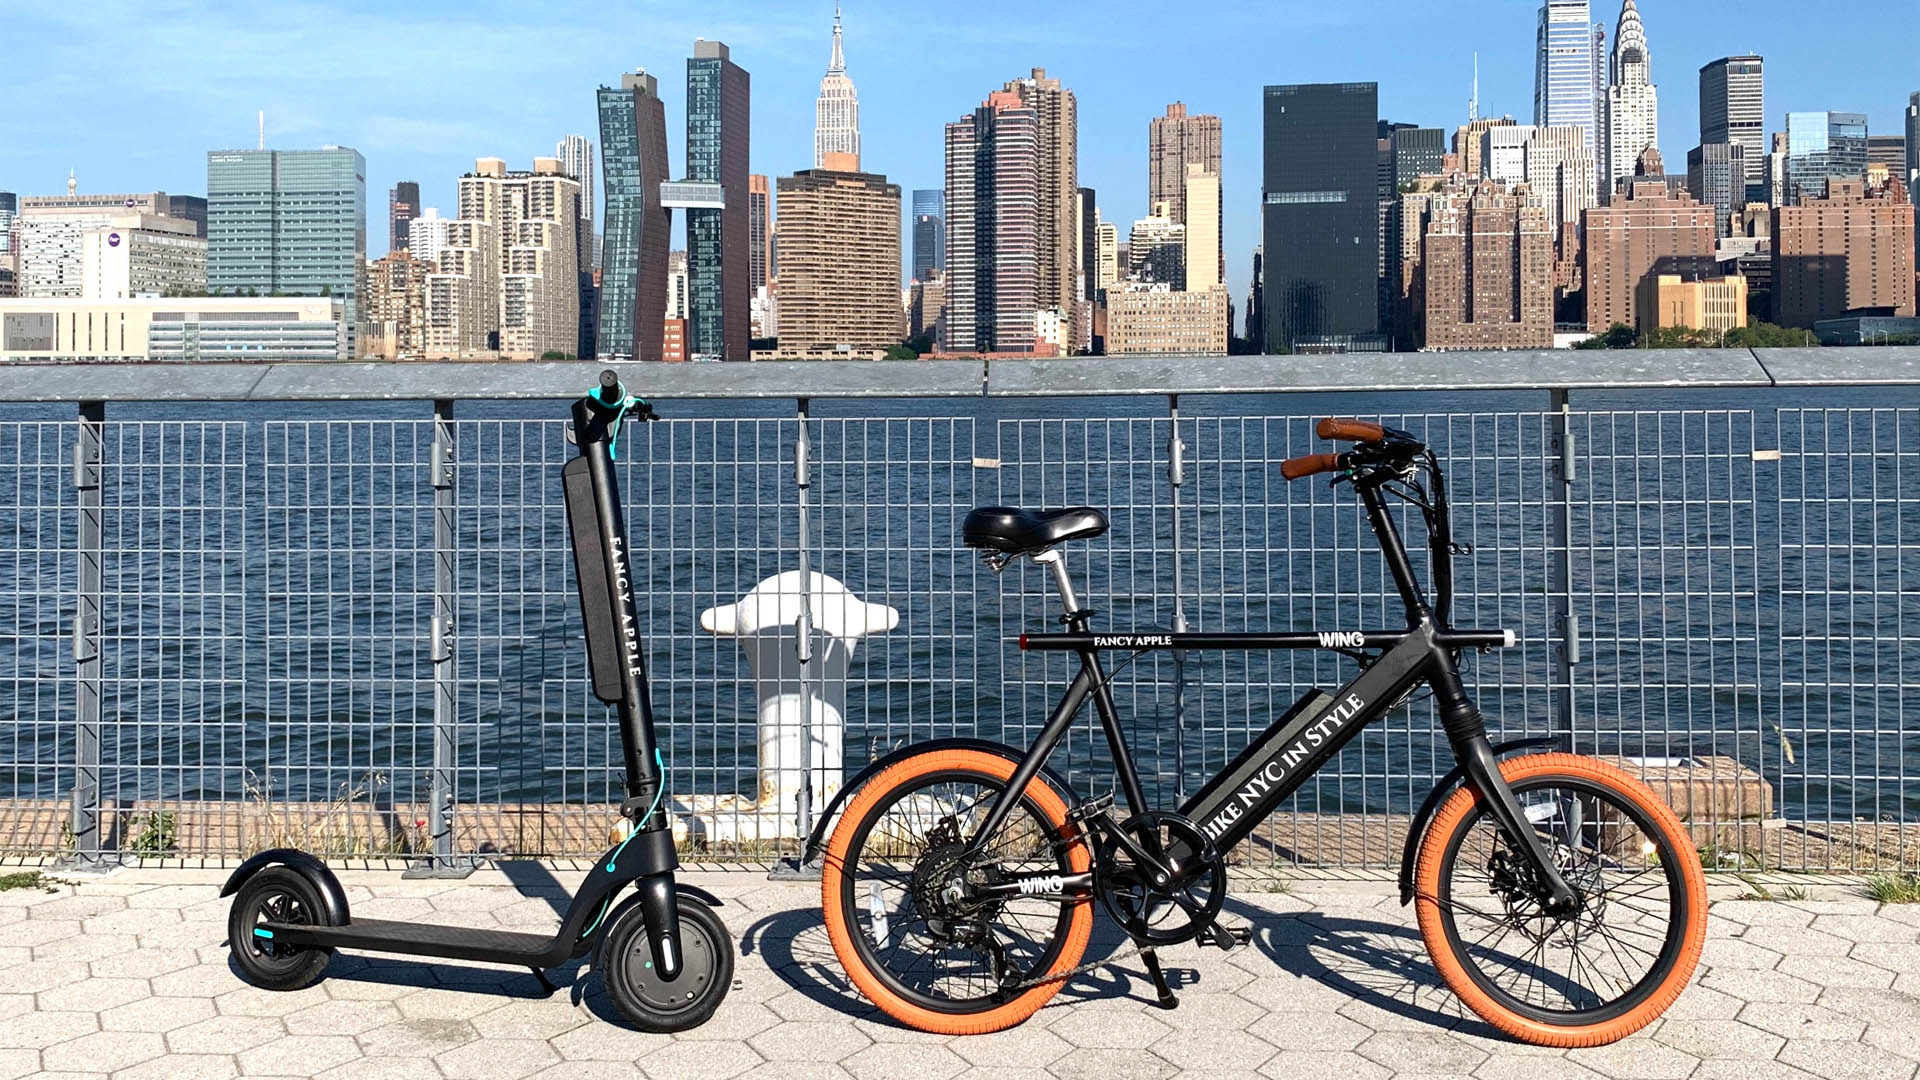bike: (800, 415, 1774, 1065)
